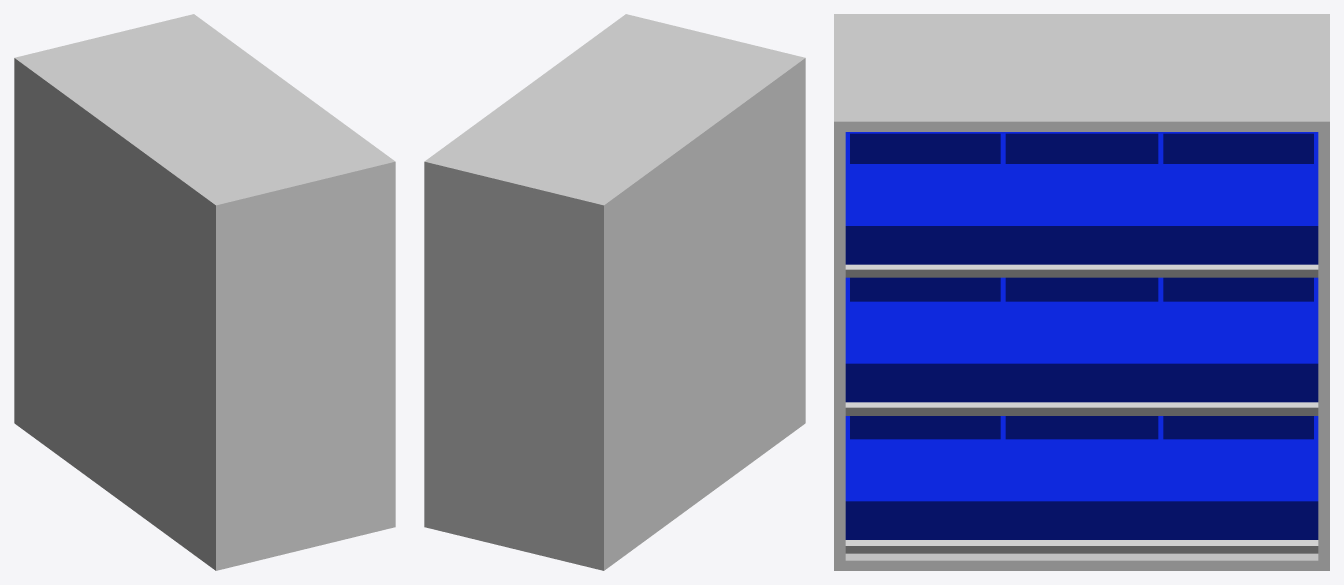
The model's file is Fridge.fbx.
3 views of the same model, side by side, from view 1: azimuth 30°, elevation 25°; view 2: azimuth 150°, elevation 25°; view 3: azimuth 270°, elevation 25° (orthographic). The views are drawn at different scales.
Parts seen in each view (by area): view 1: FridgeBody; view 2: FridgeBody; view 3: Boxes, FridgeBody, Shelves.
Part boxes in pixels (<box>): FridgeBody: <box>14,14,395,570</box>; FridgeBody: <box>424,14,805,570</box>; Boxes: <box>845,132,1318,539</box>; FridgeBody: <box>834,14,1329,570</box>; Shelves: <box>845,264,1318,553</box>.
Bounding box in the file's own units: 155 × 300 × 300.
